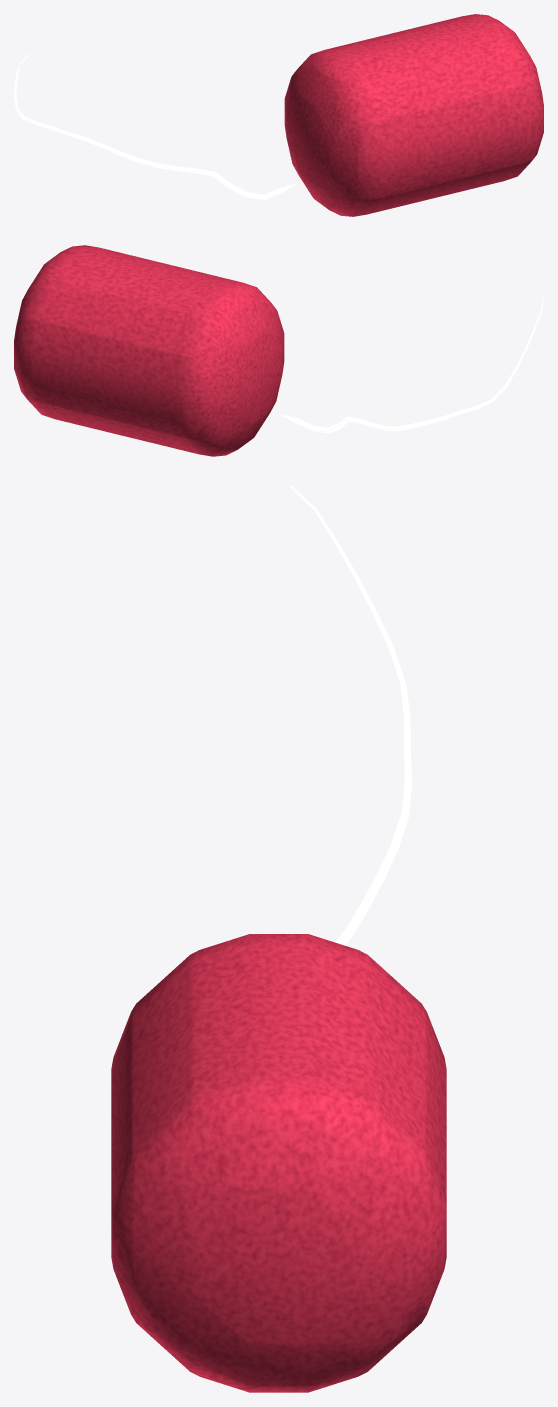
3 views of the same model, one above another, from view 1: azimuth 30°, elevation 25°; view 2: azimuth 150°, elevation 25°; view 3: azimuth 270°, elevation 25° (orthographic). The views are drawn at different scales.
Visible parts, largest first — view 1: Bacterium geo node body, Bacterium geo node body end; view 2: Bacterium geo node body, Bacterium geo node body end; view 3: Bacterium geo node body, Bacterium geo node body end.
Boxes of the visible parts, box(x1,y1,x2,y2) form: Bacterium geo node body: box(284, 14, 543, 216); Bacterium geo node body end: box(14, 54, 298, 199); Bacterium geo node body: box(14, 245, 284, 456); Bacterium geo node body end: box(279, 291, 543, 433); Bacterium geo node body: box(111, 934, 446, 1392); Bacterium geo node body end: box(290, 485, 412, 945).
Size of the model in its own units: 7.95 by 3.5 by 2.33.
2 materials, 1 textured.
